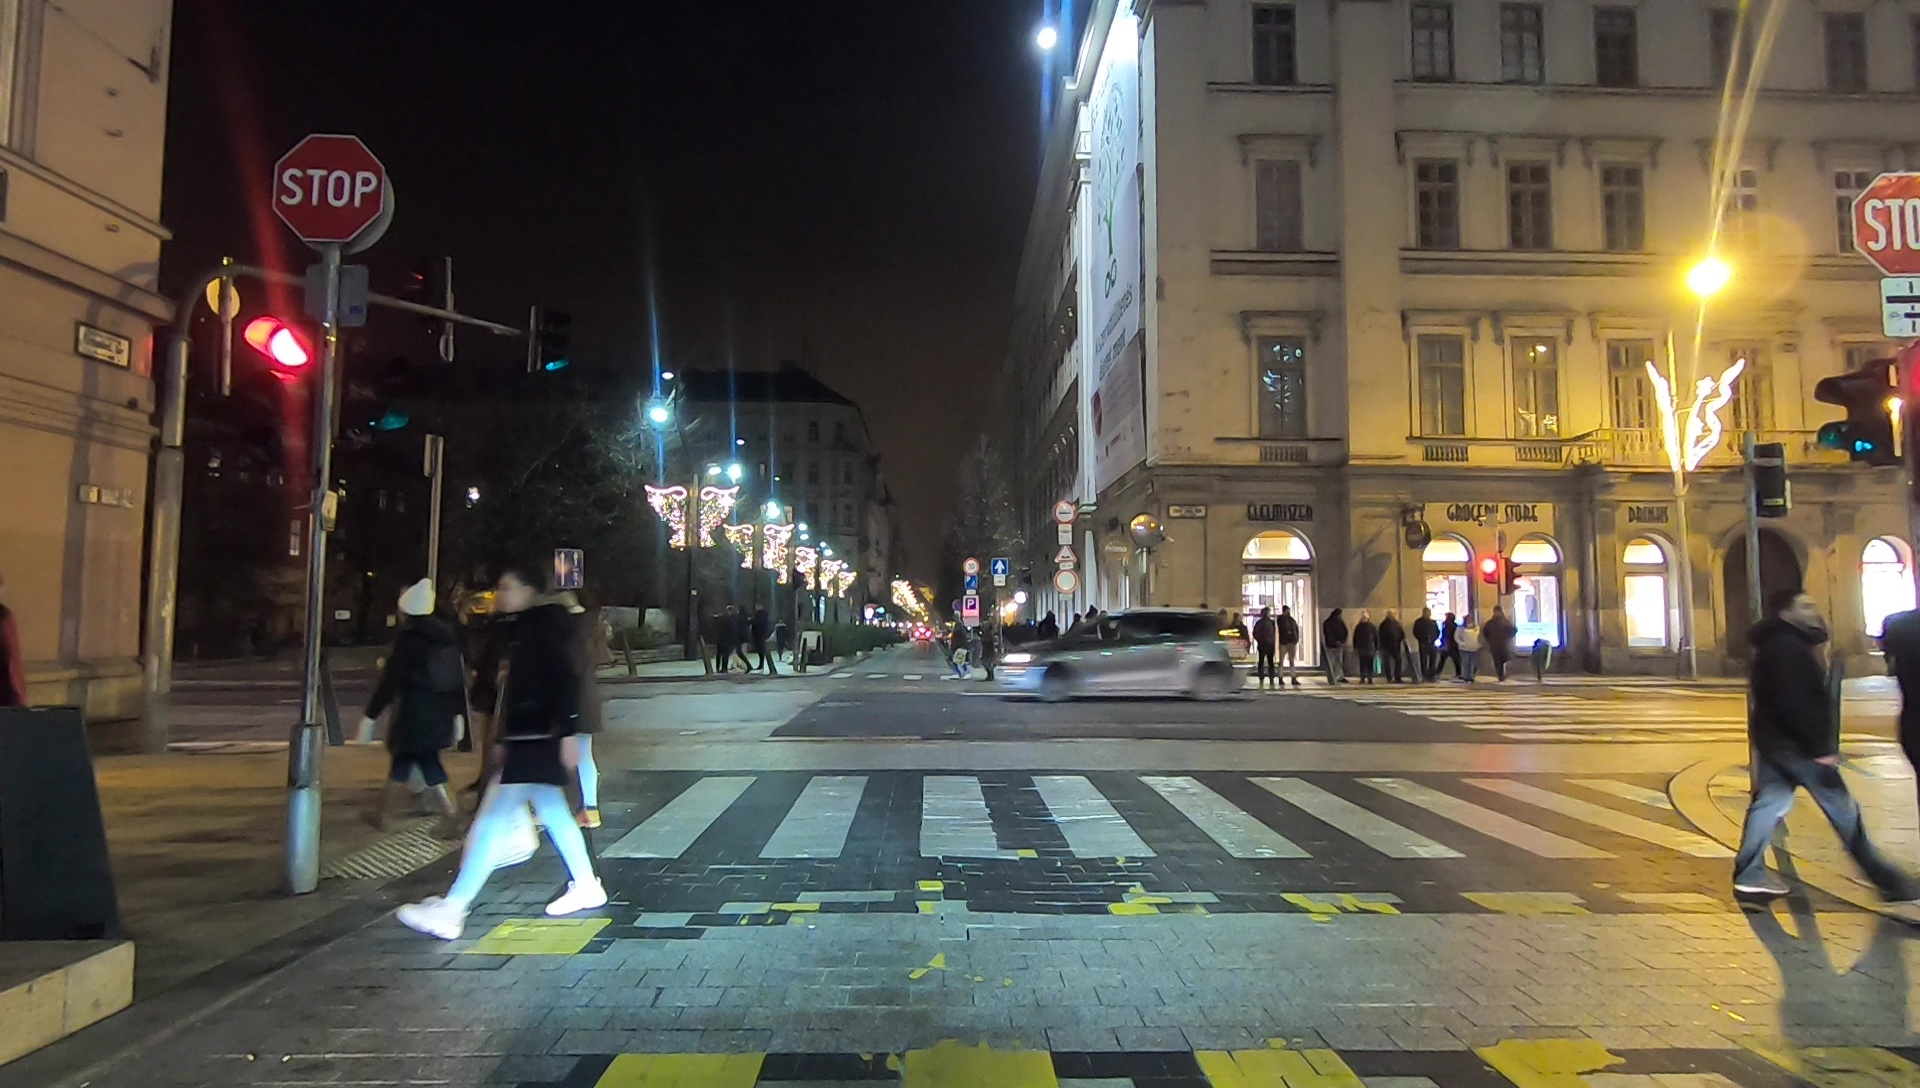person: (419, 561, 599, 932), (1726, 591, 1901, 926), (371, 582, 465, 836), (1380, 611, 1415, 684), (1434, 608, 1465, 689), (1275, 602, 1304, 680), (1323, 608, 1349, 686), (1352, 613, 1380, 684), (715, 604, 743, 674), (1414, 608, 1438, 684), (1252, 611, 1275, 680), (751, 604, 771, 680), (1489, 608, 1512, 671), (1458, 615, 1480, 678), (947, 621, 971, 674)
